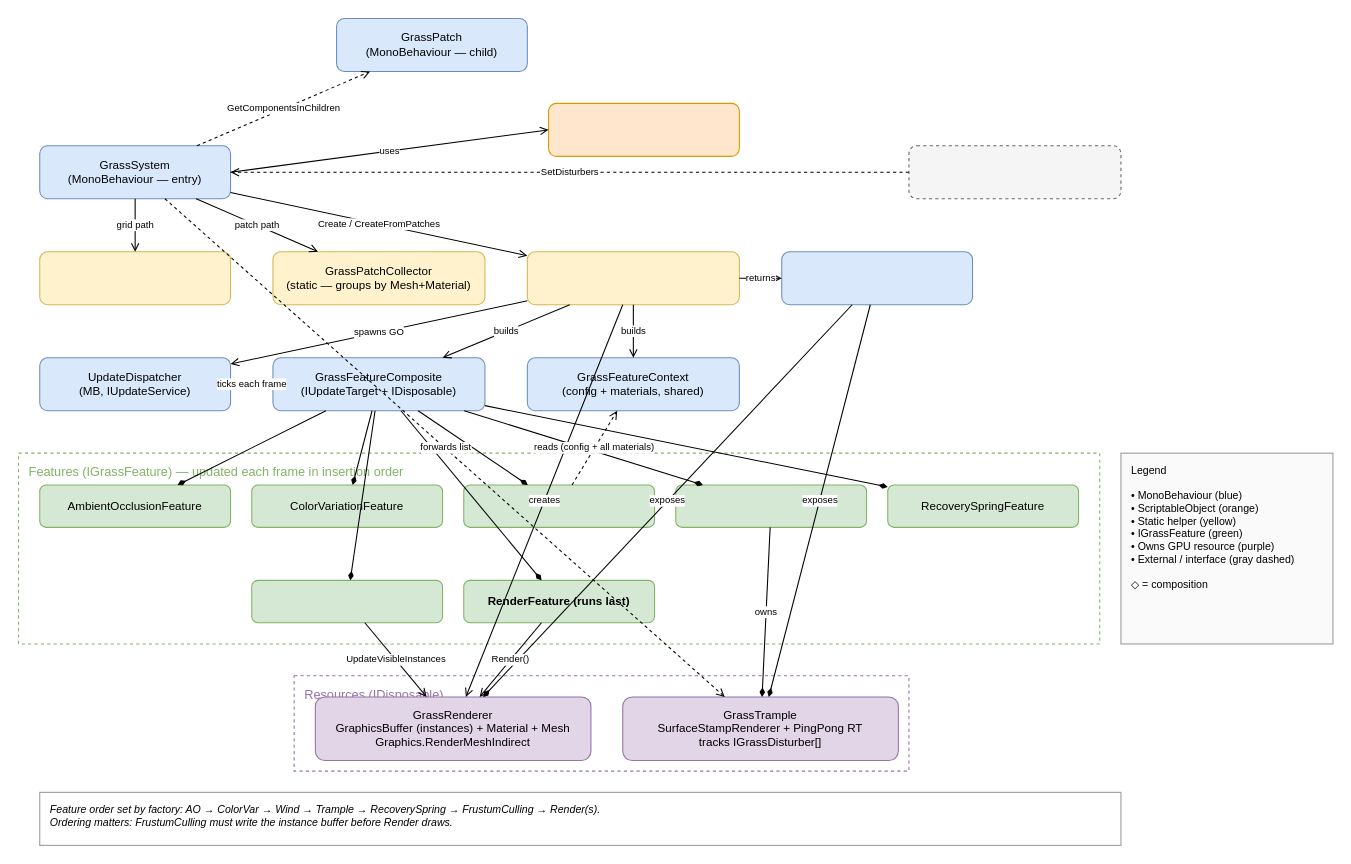
Image size: 1351x864. Some labels were removed from this diagram. Here are the shapes that lost their labels. From the top down, the box of each, then its label:
(547, 102, 739, 156): GrassSystemConfig (ScriptableObject)
(908, 145, 1121, 199): IGrassDisturber (external — Player, Enemy, …)
(39, 251, 231, 305): GrassGridBuilder (static)
(526, 251, 739, 305): GrassSystemFactory (static — wires everything)
(781, 251, 973, 305): GrassSystemHandle (IDisposable)
(463, 484, 655, 527): WindFeature
(675, 484, 867, 527): TrampleFeature
(251, 579, 443, 623): FrustumCullingFeature
